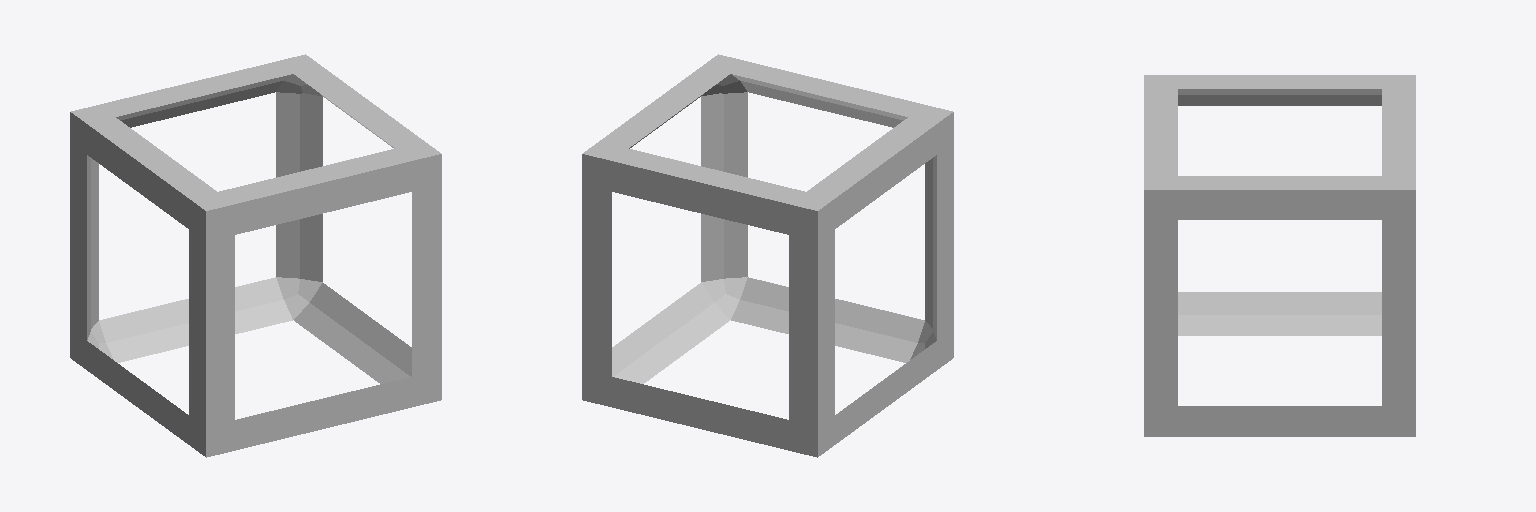
File: 3DMap_02_02.obj
The picture shows the model from 3 angles: view 1: azimuth 30°, elevation 25°; view 2: azimuth 150°, elevation 25°; view 3: azimuth 270°, elevation 25°; orthographic projection.
Visible parts, largest first — view 1: 立方体_立方体.013; view 2: 立方体_立方体.013; view 3: 立方体_立方体.013.
Part boxes in pixels (x1,y1,x2,y2): 立方体_立方体.013: (70,54,441,457); 立方体_立方体.013: (582,54,953,457); 立方体_立方体.013: (1144,75,1415,436).
Bounding box in the file's own units: 20 × 20 × 20.